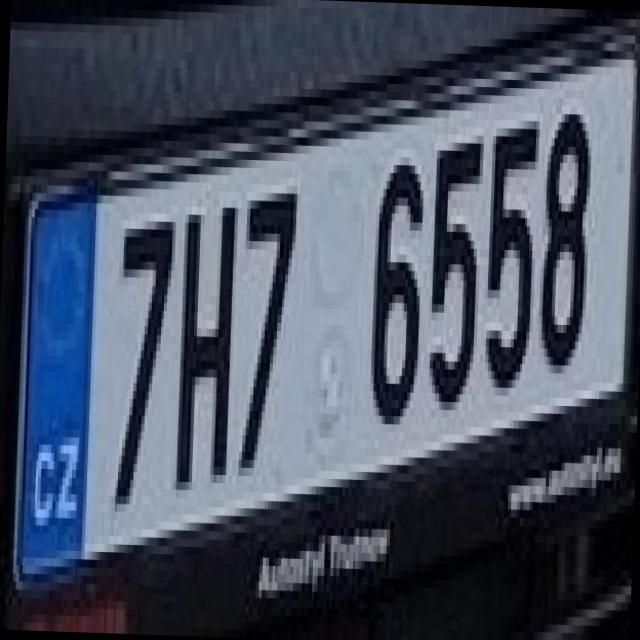5: (415, 116, 484, 402), (475, 94, 540, 388)
6: (356, 131, 428, 417)
7: (98, 195, 176, 497), (228, 167, 300, 469)
8: (530, 88, 600, 366)
H: (164, 181, 242, 483)
